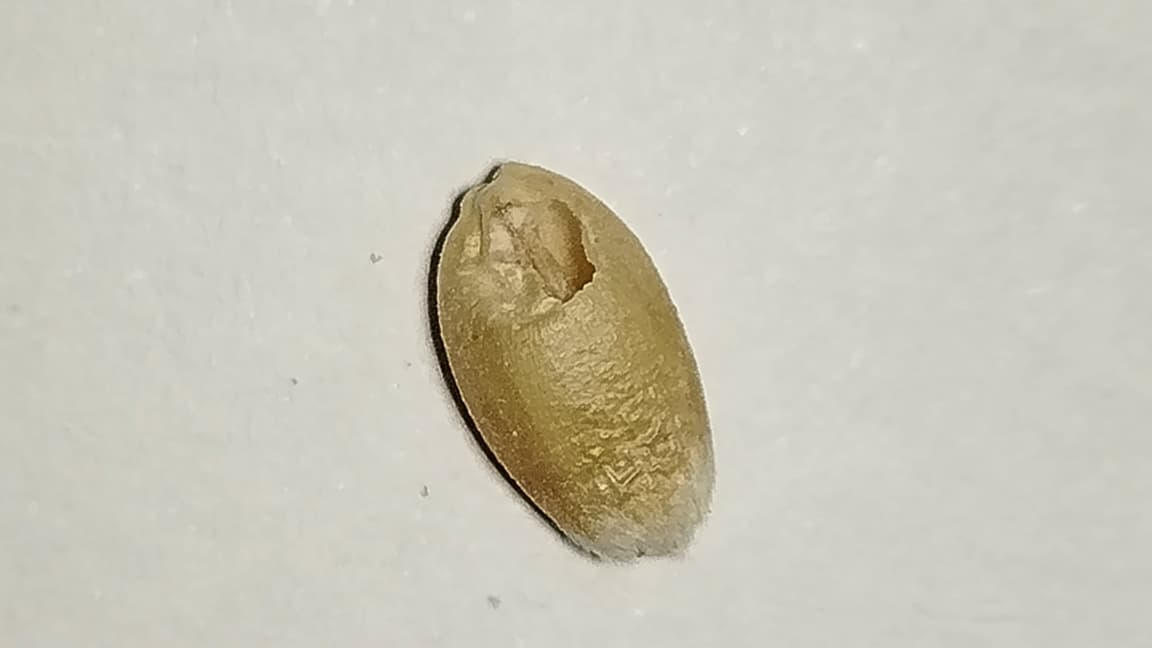damage: (438, 163, 713, 558)
insectdamage: (445, 188, 596, 351)
